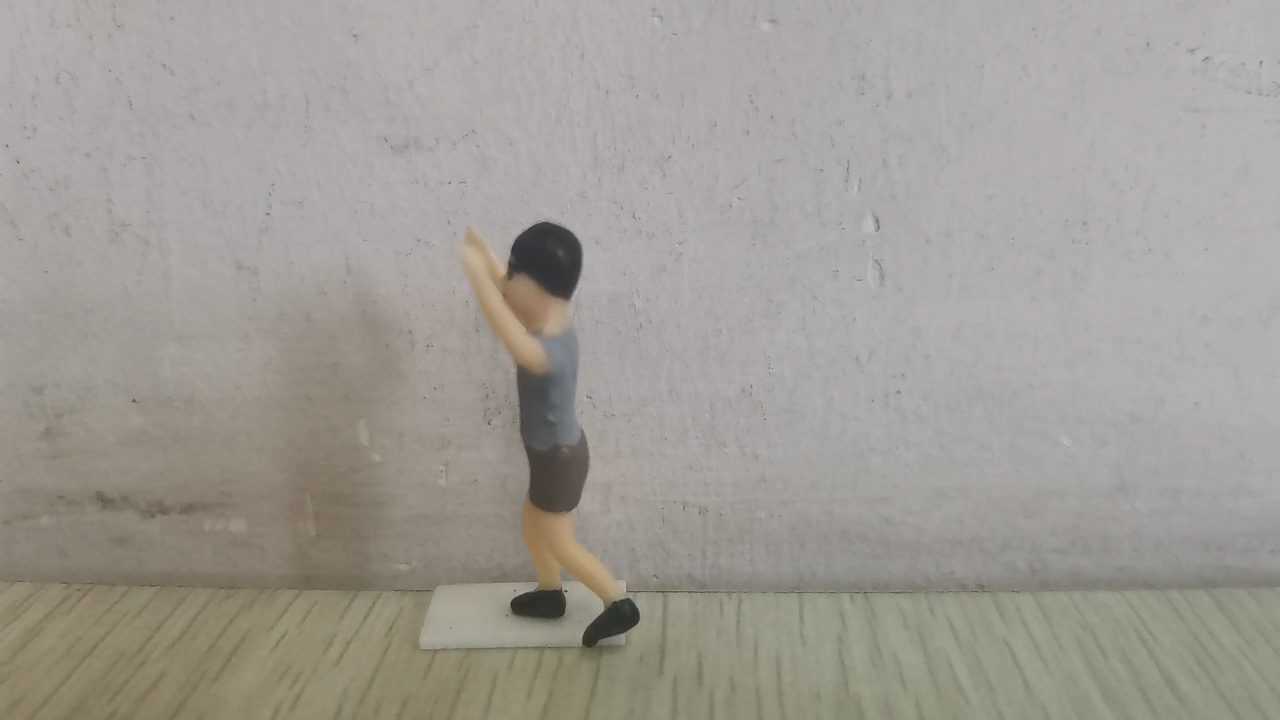person: (457, 217, 642, 649)
